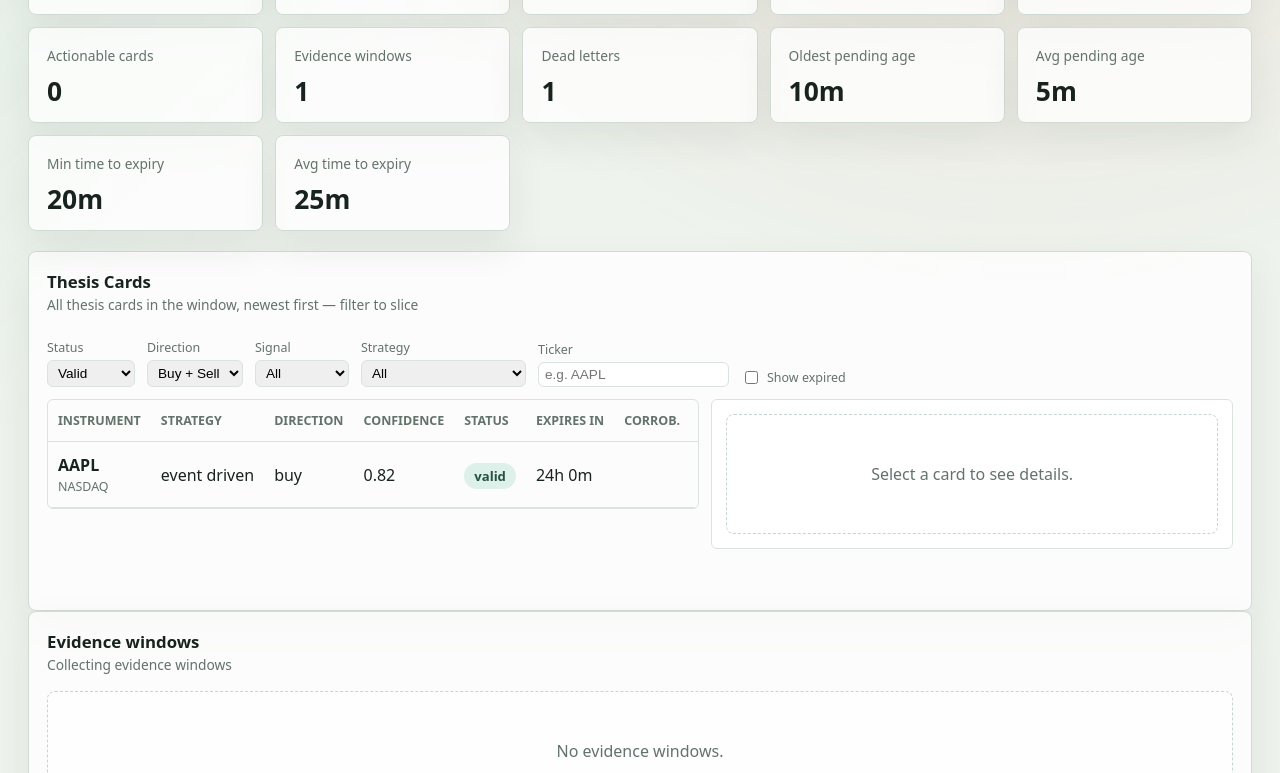
Test: ThesisBuilderTab › reveals rejected cards when the status filter is switched to rejected
The width and height of the screenshot is (1280, 773).
(page scrolled)
Expected: the text "TSLA" is not shown
Select "Rejected" in the dropdown named "Filter by validation status" at (91, 374), box [47,360,135,387]
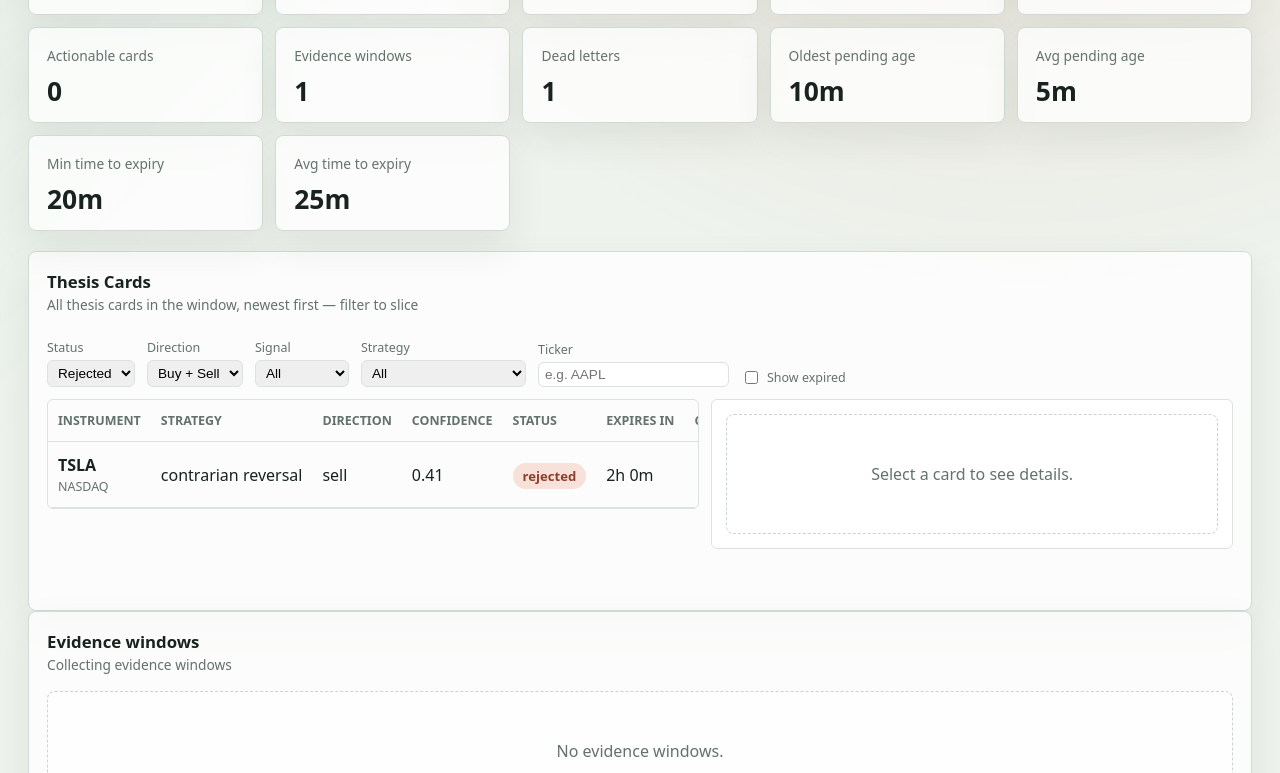
Expected: the text "TSLA" is shown
Click the text "TSLA" at (77, 465), box [58,454,96,476]
(page scrolled)
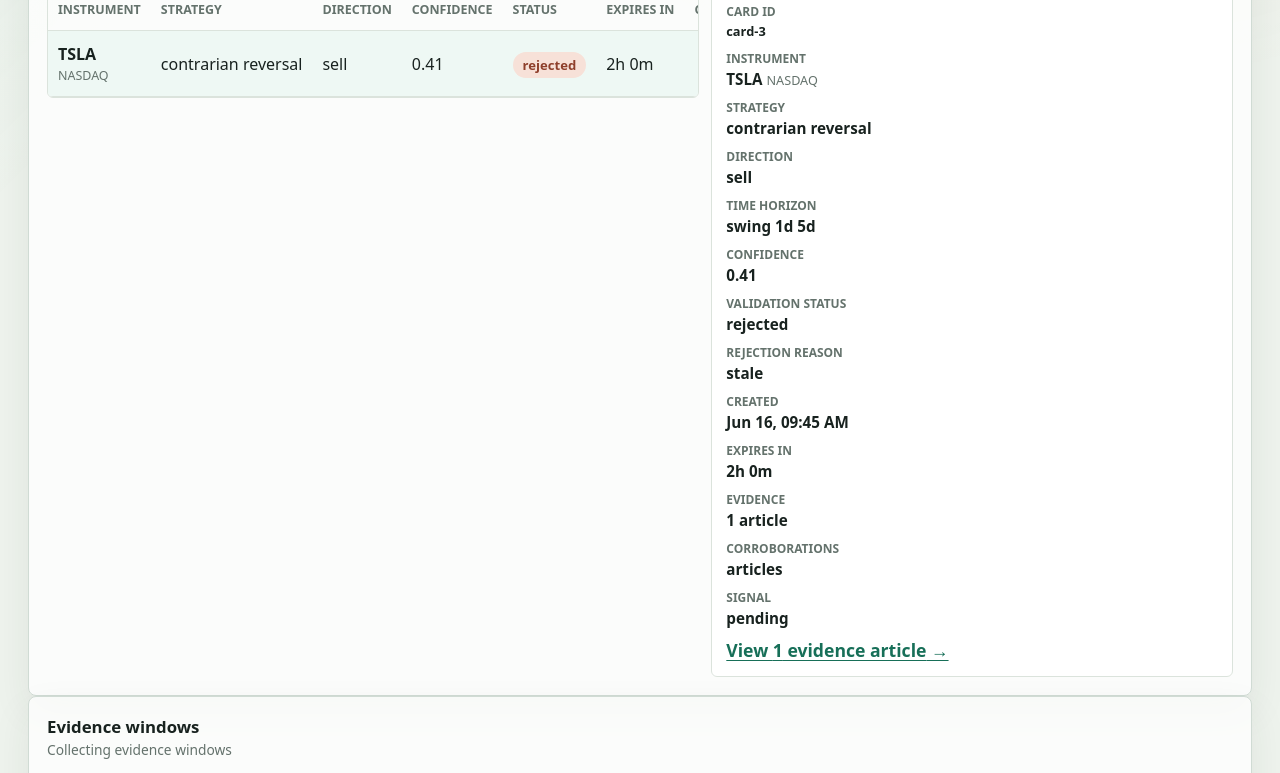
Expected: the text "Rejection reason" is shown, [726,344,843,361]
Expected: the text "stale" is shown, [726,363,763,383]
